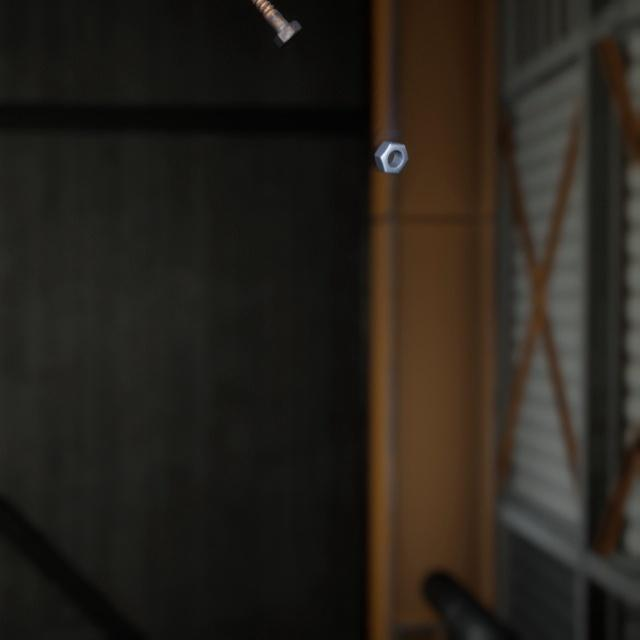bolt: (251, 0, 306, 44)
nut: (369, 124, 412, 165)
